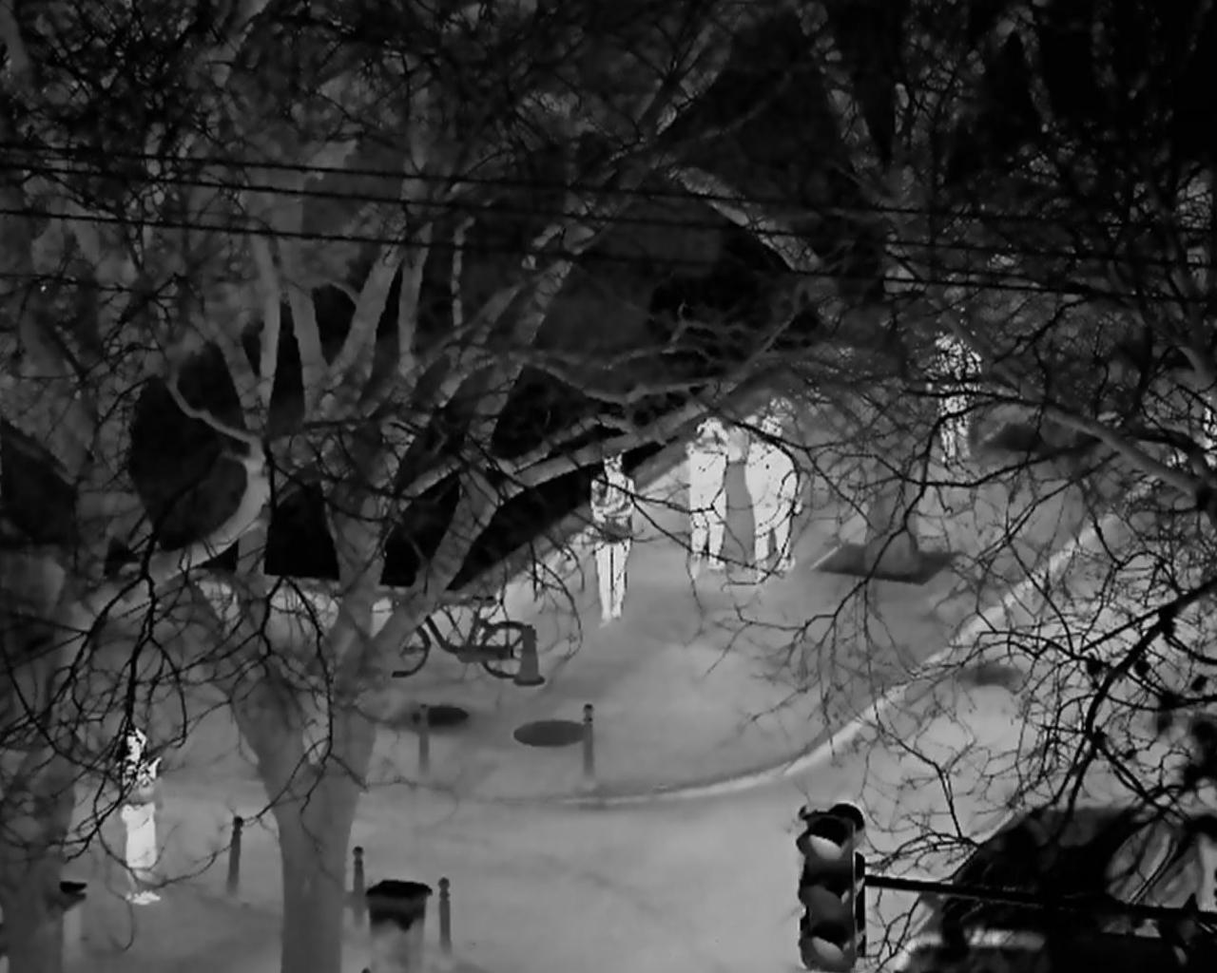person: (742, 413, 800, 584), (677, 416, 733, 580), (587, 454, 633, 626), (120, 723, 161, 906)
